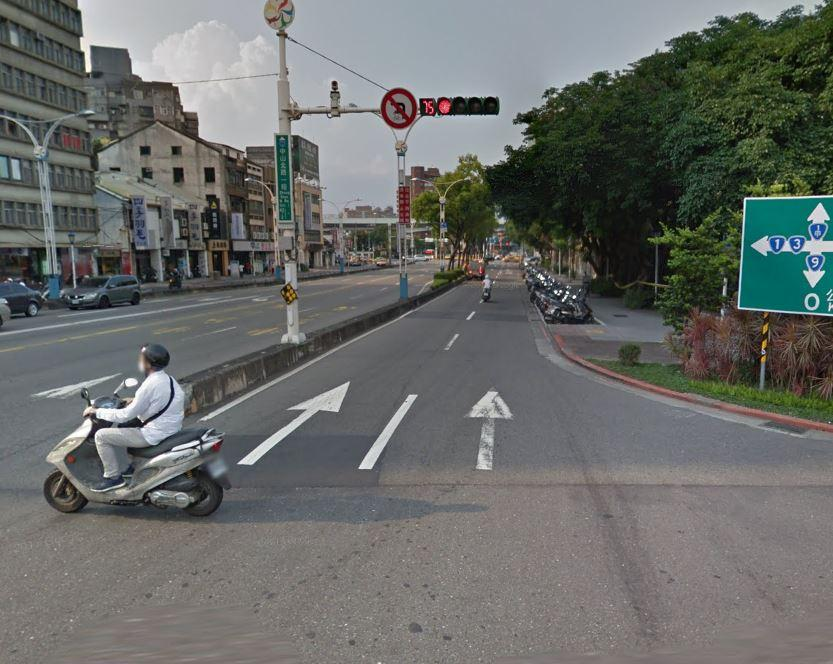red_traffic_light: (419, 96, 500, 116)
